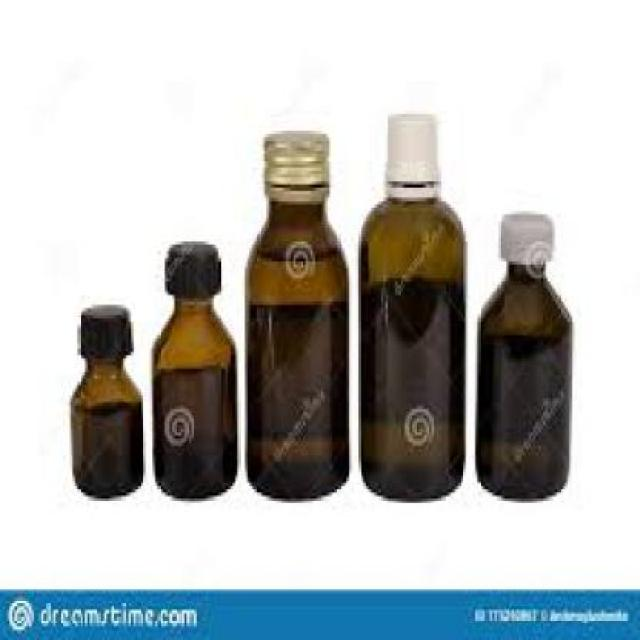kaca: (242, 198, 349, 497), (359, 195, 463, 497), (476, 265, 570, 500), (151, 296, 235, 496), (71, 356, 140, 496)
